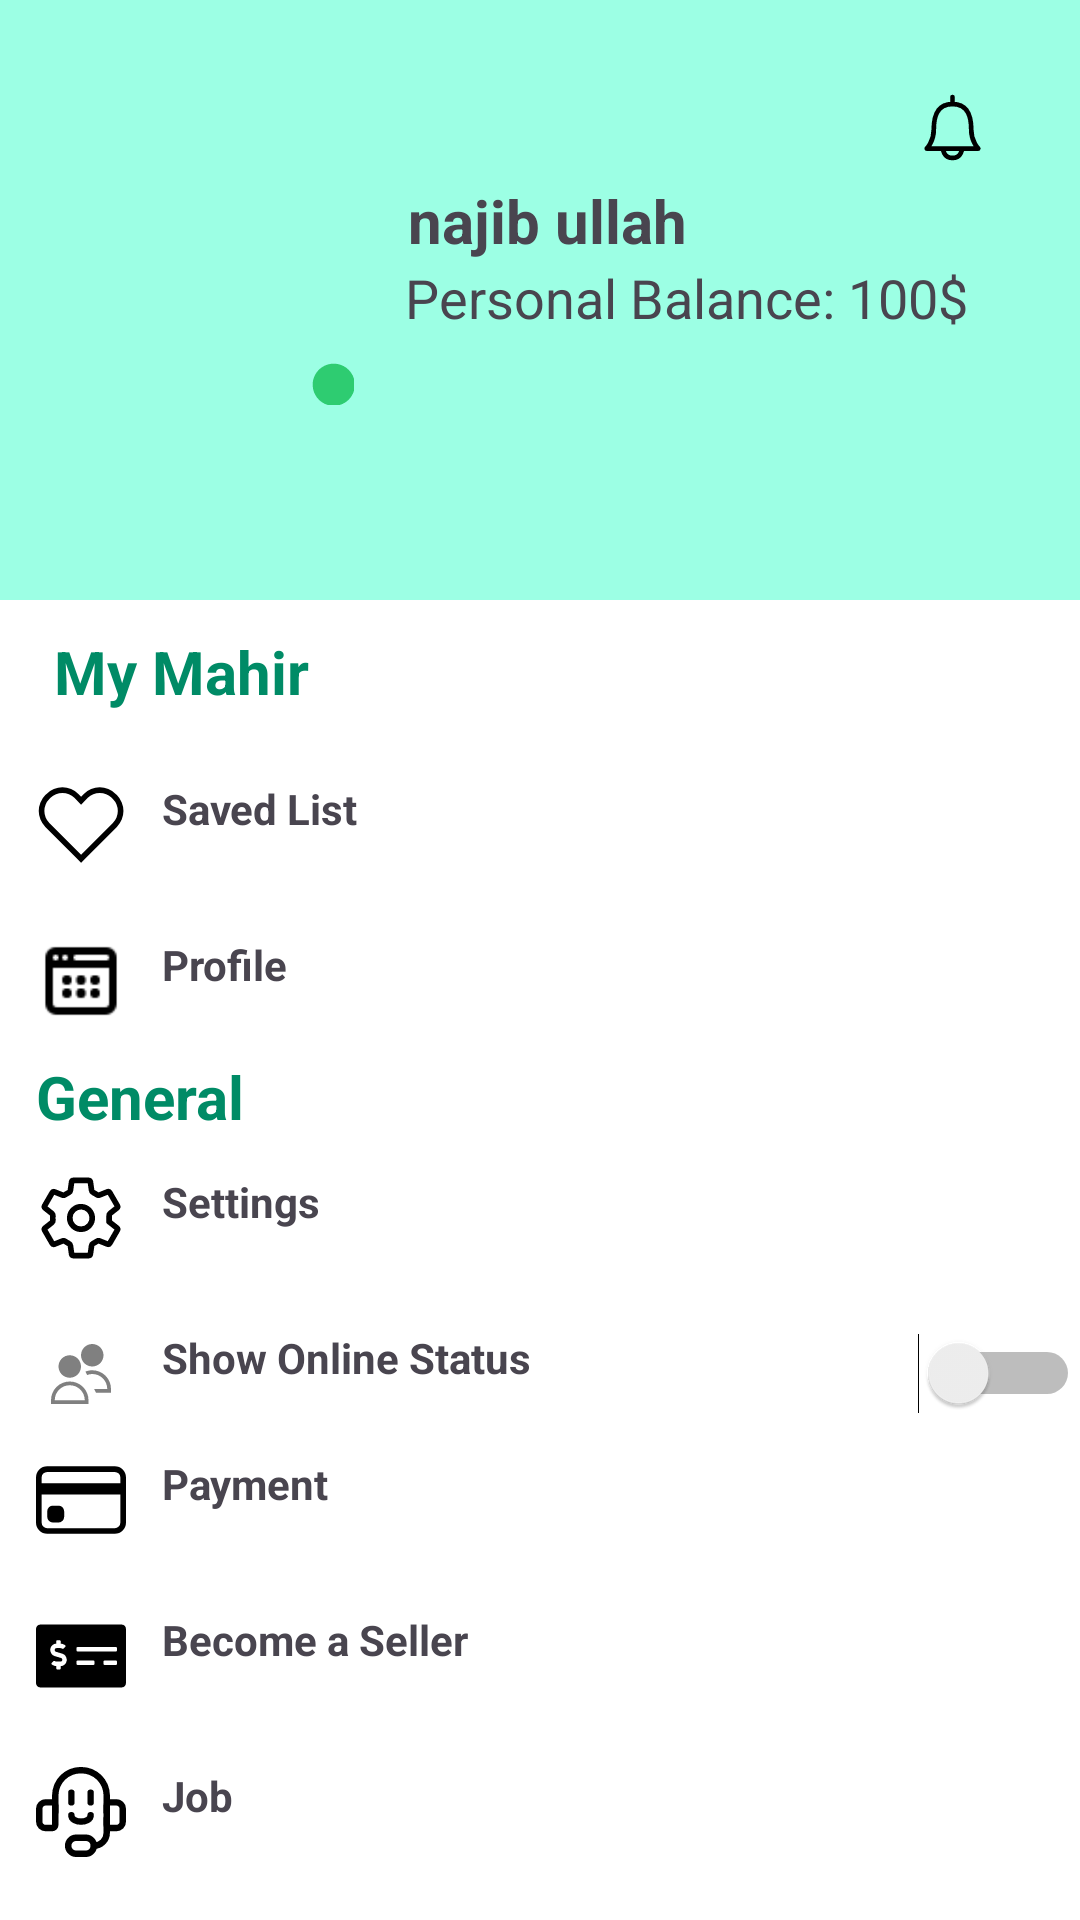

Icon click points for this 1080 × 1920 phone screenshot, format (x=x, y=y):
bell: (x=952, y=127)
support: (x=81, y=1812)
